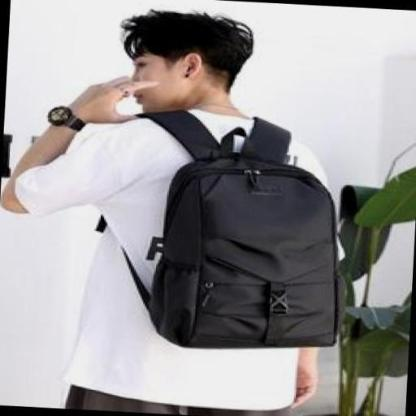bag: (136, 99, 347, 357)
person: (0, 5, 333, 416)
